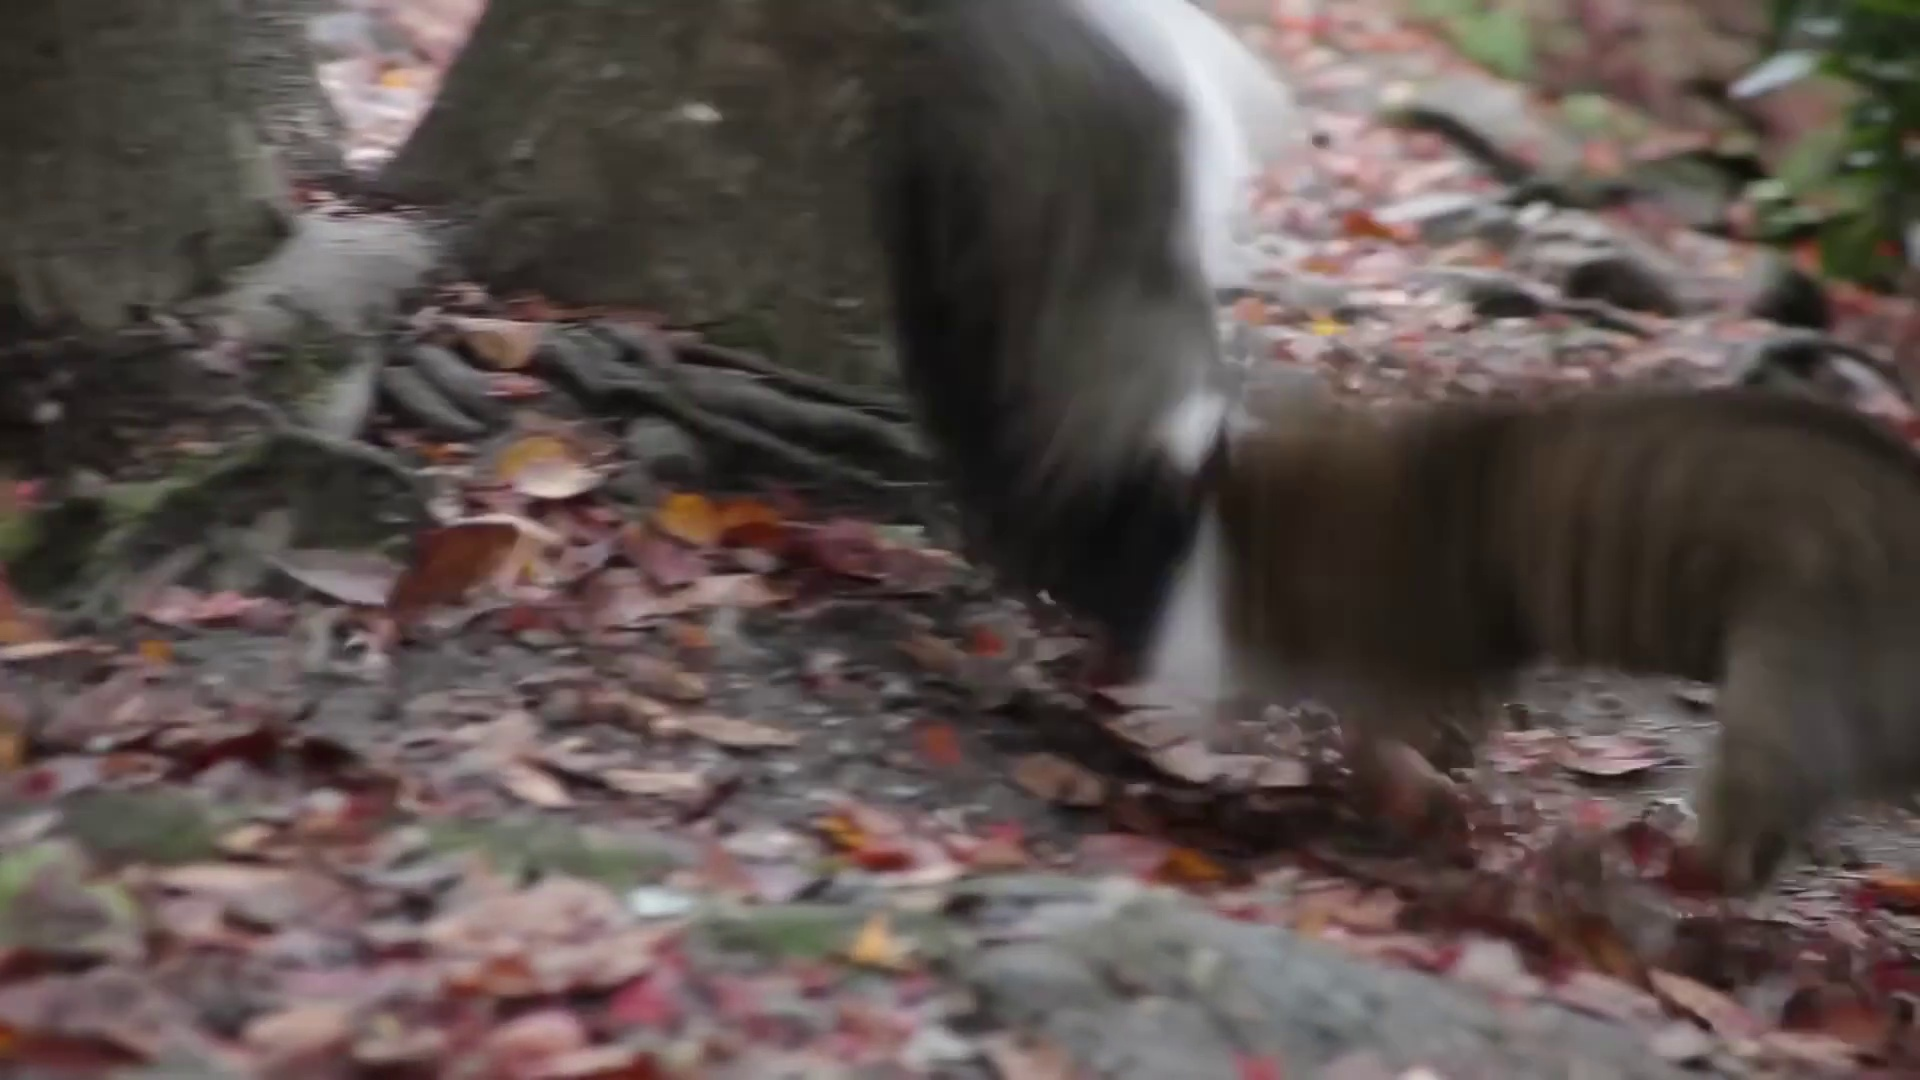black-white: (872, 3, 1249, 694)
pure black: (1225, 386, 1920, 895)
